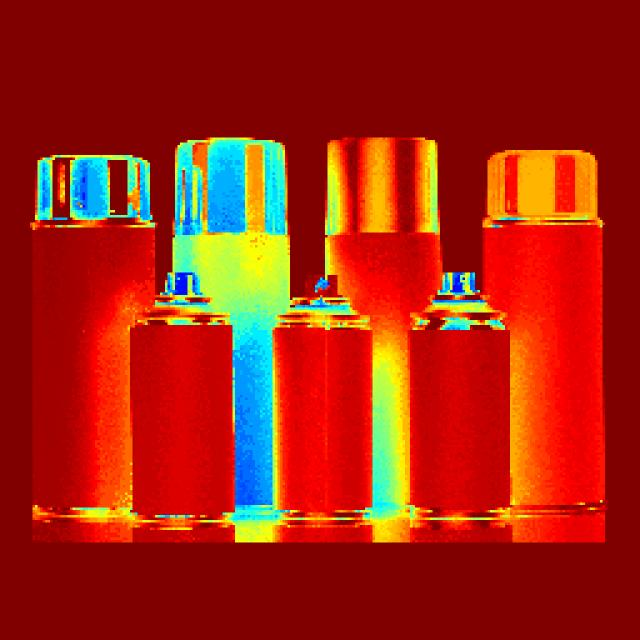Aerosol Cans: (28, 145, 160, 533), (123, 268, 239, 540), (270, 279, 381, 523)
